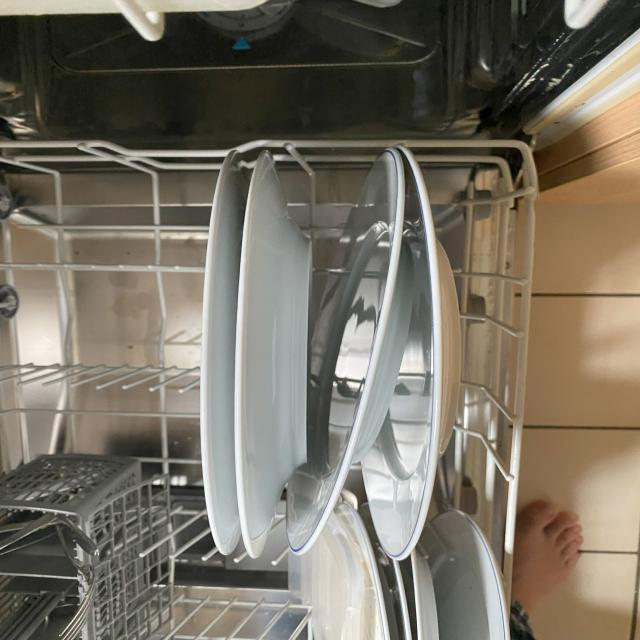clutery_bin: (0, 508, 95, 636)
empty_slot: (0, 157, 194, 437)
